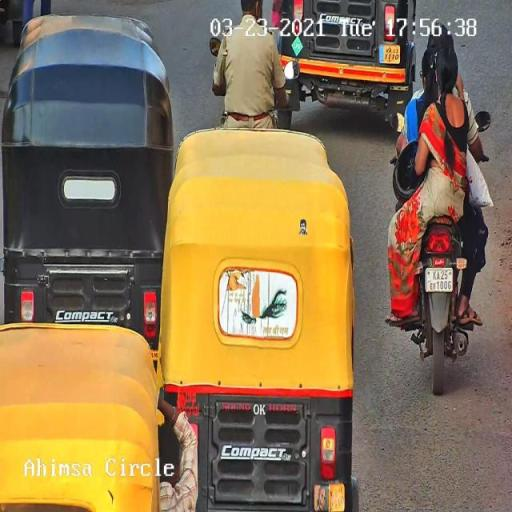tripple riding: (390, 18, 493, 212)
